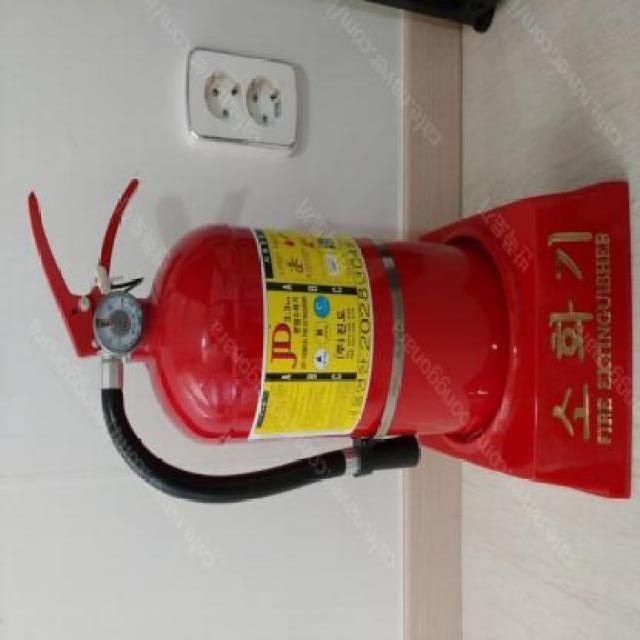fire extinguisher: (29, 179, 511, 504)
